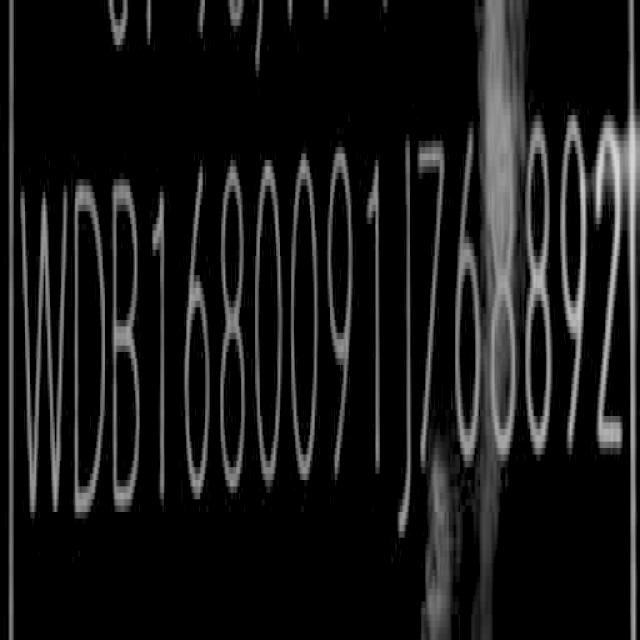0: (254, 152, 285, 496), (292, 148, 322, 495)
1: (365, 142, 385, 500), (151, 175, 171, 520)
2: (596, 110, 625, 465)
6: (184, 166, 215, 508), (454, 123, 484, 471)
7: (416, 127, 448, 481)
8: (488, 113, 520, 468), (523, 107, 553, 466), (218, 155, 248, 499)
9: (556, 110, 588, 468), (326, 150, 356, 498)
B: (112, 180, 144, 525)
D: (72, 175, 107, 530)
J: (394, 133, 418, 557)
W: (14, 179, 72, 535)
